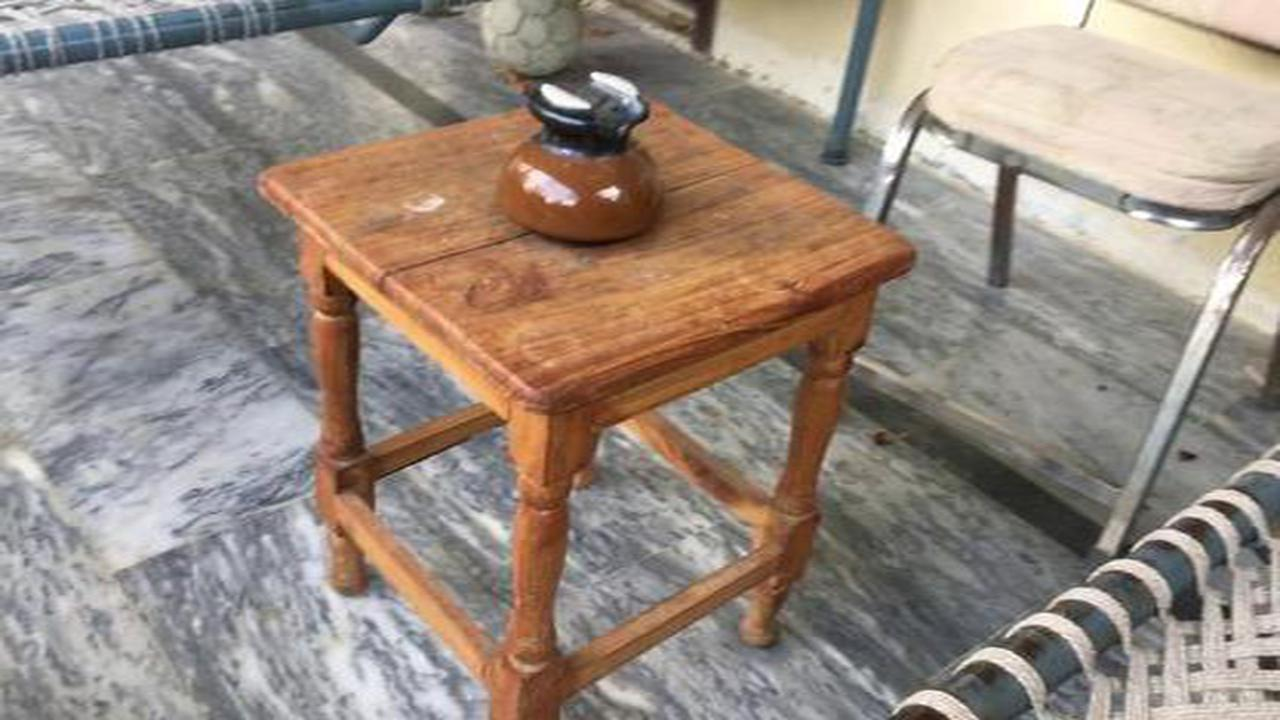insulator_pin: (487, 47, 681, 255)
